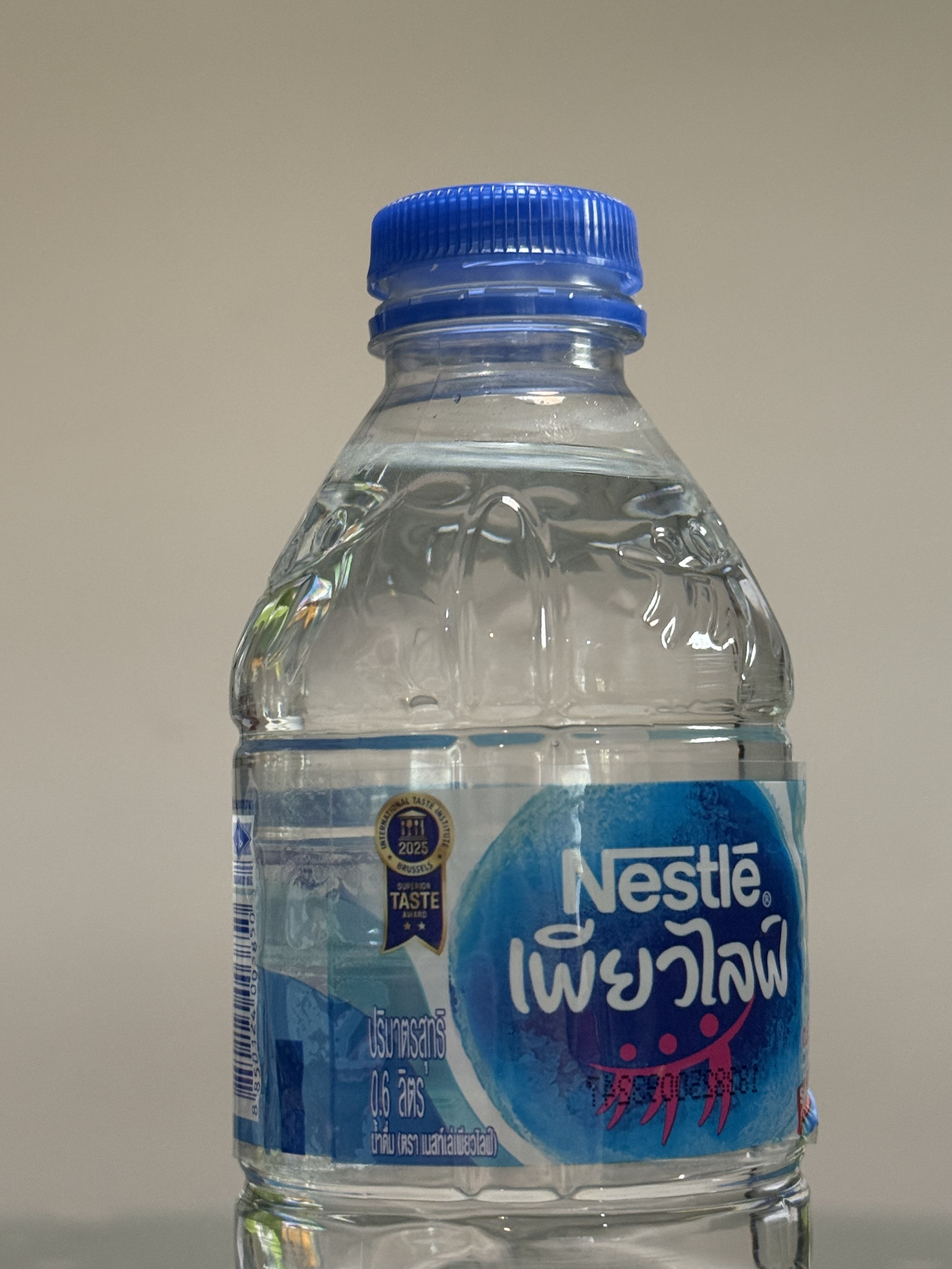half_cap: (358, 175, 652, 353)
